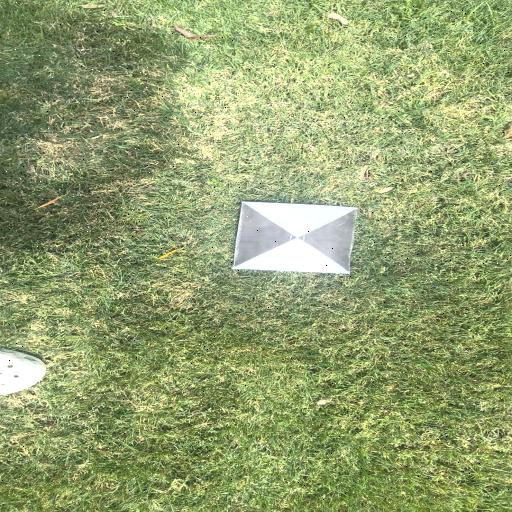target: (240, 200, 350, 272)
